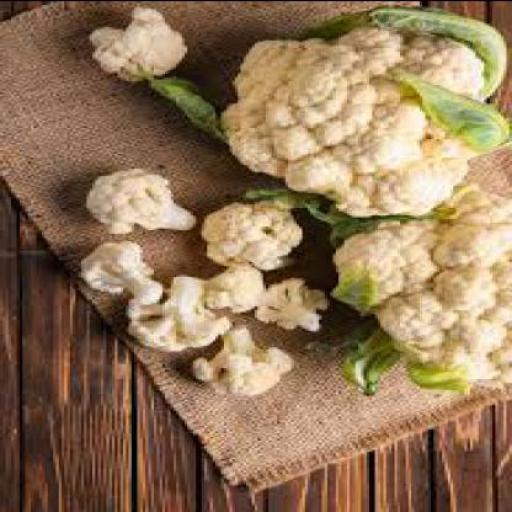biodegradable: (226, 6, 511, 225), (310, 184, 511, 398), (201, 199, 313, 272), (90, 7, 193, 84), (129, 278, 235, 352), (193, 327, 297, 399), (87, 170, 201, 234), (82, 244, 168, 305), (148, 78, 230, 137), (254, 280, 333, 334), (209, 270, 266, 312)
